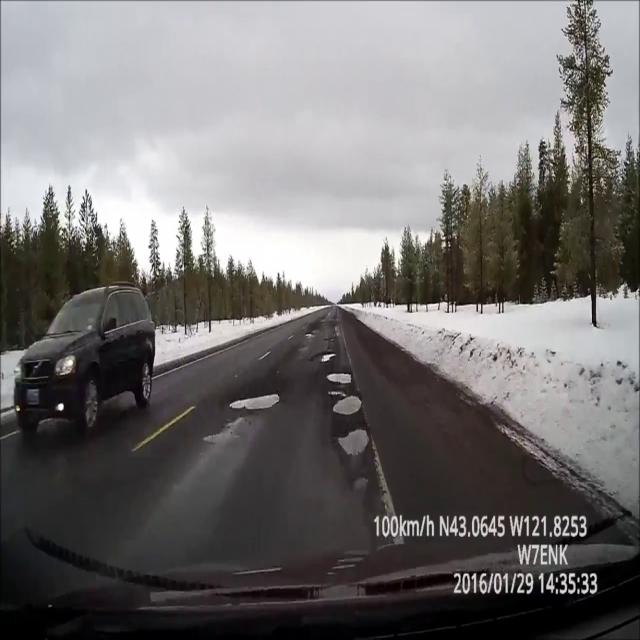Pothole: (225, 392, 281, 411), (336, 426, 370, 456), (330, 392, 363, 418), (326, 370, 354, 384), (310, 352, 336, 365), (351, 477, 370, 490), (304, 331, 314, 338)
